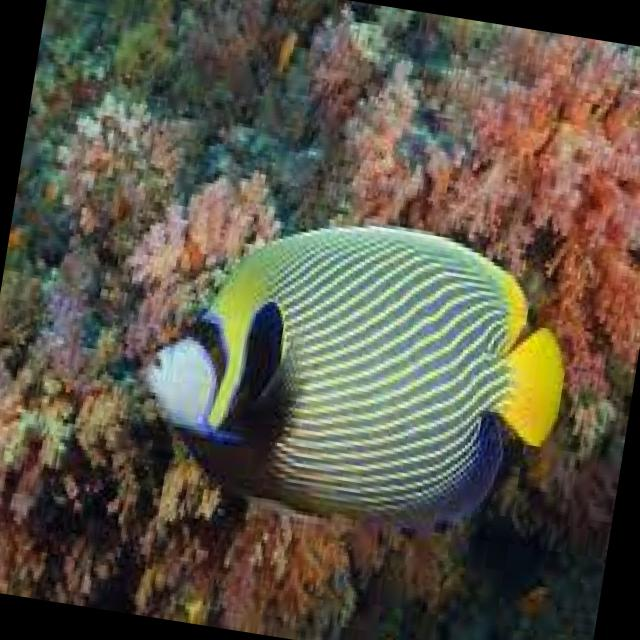AngelFish: (128, 194, 584, 547)
